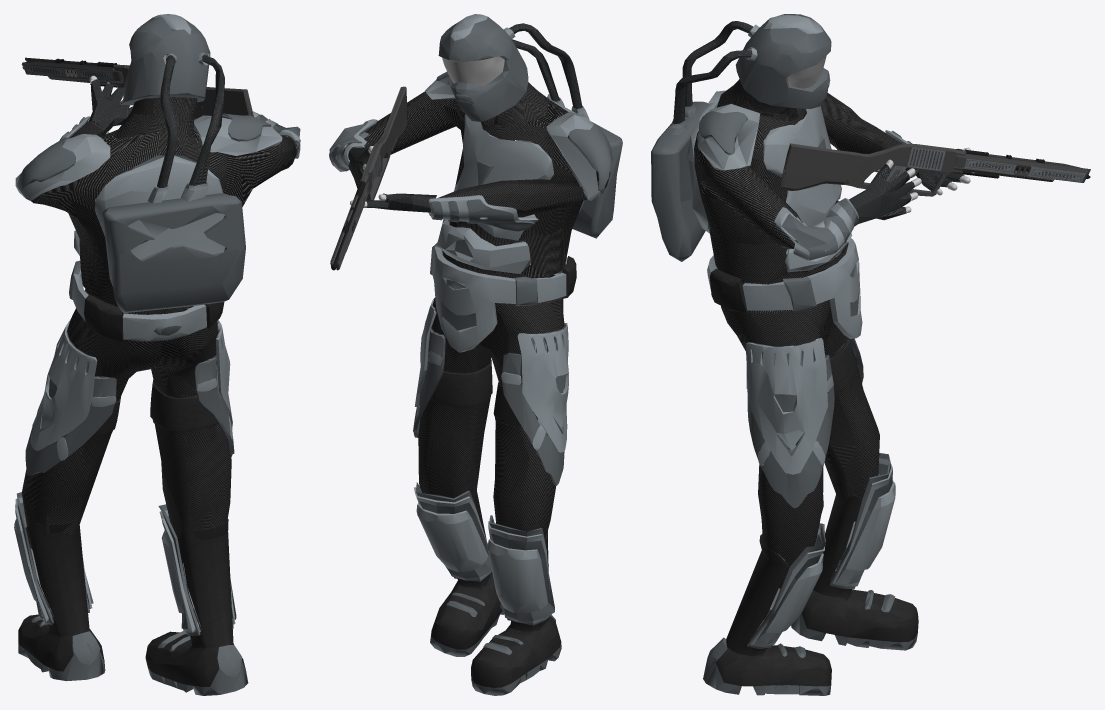
Rendered from AndarEscopeta.0012.obj.
3 renders of one model, left to right at view 1: azimuth 30°, elevation 25°; view 2: azimuth 150°, elevation 25°; view 3: azimuth 270°, elevation 25°, orthographic. The views are drawn at different scales.
Parts seen in each view (by area): view 1: personaje:extrudedSurface2 polySurface92, personaje:bota1 polySurface92, personaje:PANTALON polySurface92, personaje:CAMISETABUENA polySurface92, personaje:pPipe4 polySurface92, personaje:pCube4 polySurface92, personaje:cosoarmdaurapierna1 polySurface92, personaje:cinturon polySurface92, escopeta:Cylinder001 polySurface92, personaje:armadbota1 polySurface92, personaje:polySurface6 polySurface92, personaje:HOMBRO2 polySurface92 (+4 smaller); view 2: personaje:PANTALON polySurface92, personaje:CAMISETABUENA polySurface92, personaje:pPipe4 polySurface92, personaje:bota1 polySurface92, personaje:extrudedSurface2 polySurface92, personaje:armadbota1 polySurface92, personaje:cinturon polySurface92, personaje:pCube4 polySurface92, personaje:cosoarmdaurapierna1 polySurface92, escopeta:Cylinder001 polySurface92, personaje:polySurface6 polySurface92, personaje:polySurface2 polySurface92 (+7 smaller); view 3: personaje:bota1 polySurface92, personaje:CAMISETABUENA polySurface92, personaje:extrudedSurface2 polySurface92, personaje:PANTALON polySurface92, personaje:pPipe4 polySurface92, personaje:pCube4 polySurface92, escopeta:Cylinder001 polySurface92, personaje:cinturon polySurface92, personaje:armadbota1 polySurface92, personaje:cosoarmadurapierna2 polySurface92, personaje:hombro1 polySurface92, personaje:partearmdBRAZO2 polySurface92 (+2 smaller).
Boxes of the visible parts, x1,y1,x2,y2 form: personaje:extrudedSurface2 polySurface92: (102,14,245,313); personaje:bota1 polySurface92: (18,519,248,695); personaje:PANTALON polySurface92: (21,289,231,562); personaje:CAMISETABUENA polySurface92: (28,97,296,341); personaje:pPipe4 polySurface92: (15,79,300,255); personaje:pCube4 polySurface92: (16,307,236,635); personaje:cosoarmdaurapierna1 polySurface92: (30,321,116,460); personaje:cinturon polySurface92: (69,260,224,341); escopeta:Cylinder001 polySurface92: (21,57,253,119); personaje:armadbota1 polySurface92: (14,497,235,632); personaje:polySurface6 polySurface92: (91,380,219,437); personaje:HOMBRO2 polySurface92: (17,137,76,189); personaje:PANTALON polySurface92: (418,264,564,539); personaje:CAMISETABUENA polySurface92: (345,58,610,305); personaje:pPipe4 polySurface92: (329,76,604,273); personaje:bota1 polySurface92: (430,490,561,695); personaje:extrudedSurface2 polySurface92: (438,14,622,238); personaje:armadbota1 polySurface92: (414,487,551,623); personaje:cinturon polySurface92: (430,237,576,352); personaje:pCube4 polySurface92: (414,298,566,625); personaje:cosoarmdaurapierna1 polySurface92: (501,323,568,452); escopeta:Cylinder001 polySurface92: (330,86,407,270); personaje:polySurface6 polySurface92: (430,359,519,423); personaje:polySurface2 polySurface92: (430,199,534,231); personaje:bota1 polySurface92: (703,493,918,695); personaje:CAMISETABUENA polySurface92: (694,79,902,313); personaje:extrudedSurface2 polySurface92: (651,14,831,261); personaje:PANTALON polySurface92: (721,254,879,588); personaje:pPipe4 polySurface92: (686,90,964,272); personaje:pCube4 polySurface92: (745,338,892,648); escopeta:Cylinder001 polySurface92: (780,143,1090,196); personaje:cinturon polySurface92: (707,238,862,338); personaje:armadbota1 polySurface92: (750,458,895,646); personaje:cosoarmadurapierna2 polySurface92: (746,350,834,508); personaje:hombro1 polySurface92: (699,111,747,155); personaje:partearmdBRAZO2 polySurface92: (774,198,858,261).
Bounding box in the file's own units: 4.24 × 9.63 × 5.71.
